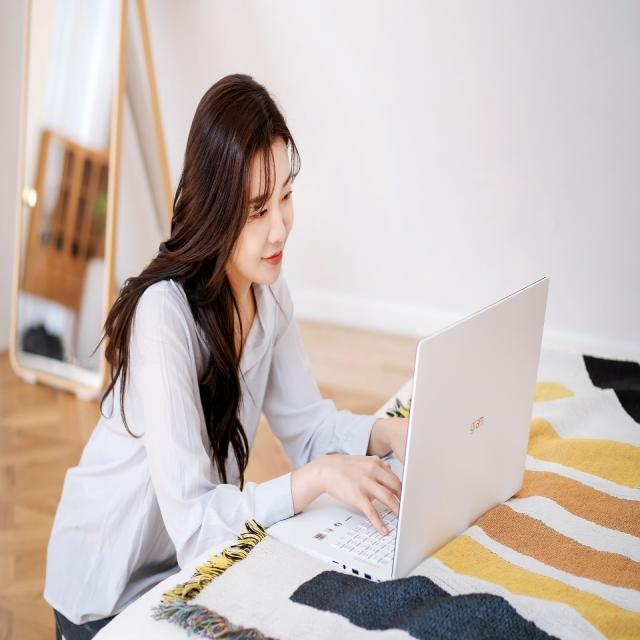notebook-person: (41, 63, 556, 640)
